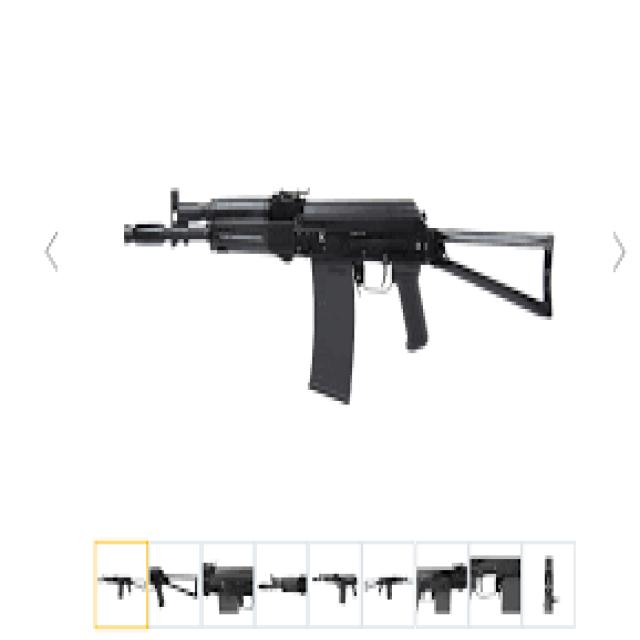firearm: (124, 188, 552, 402)
